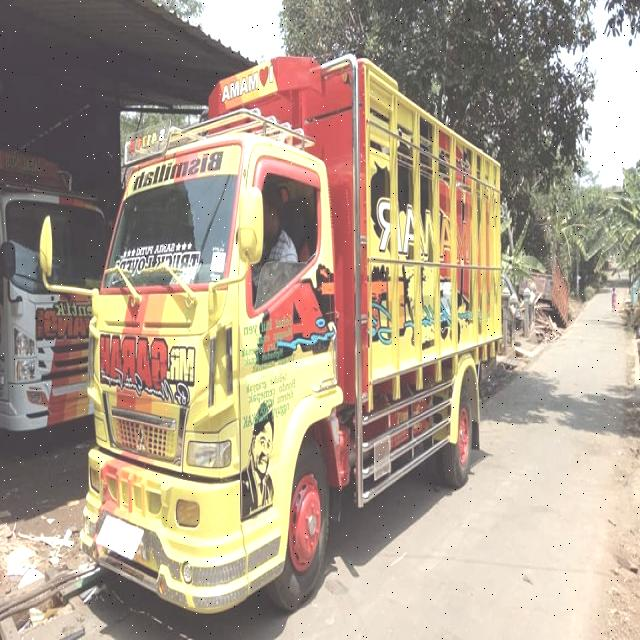truck: (40, 46, 505, 614)
